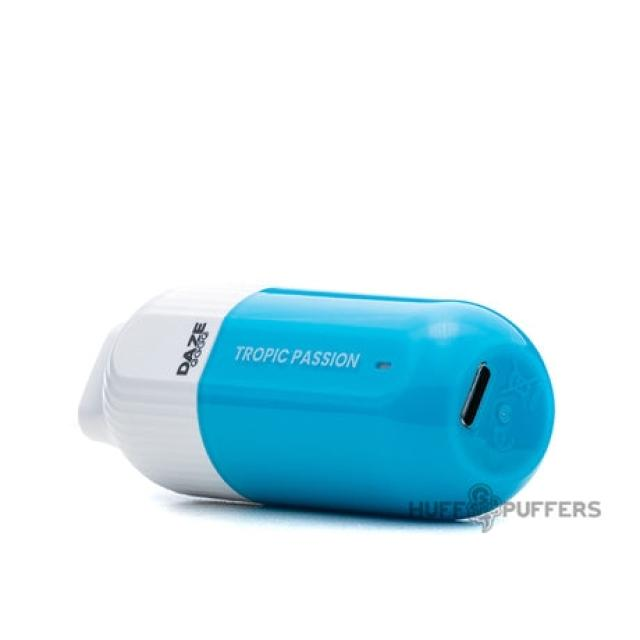Vape-images: (76, 282, 556, 524)
